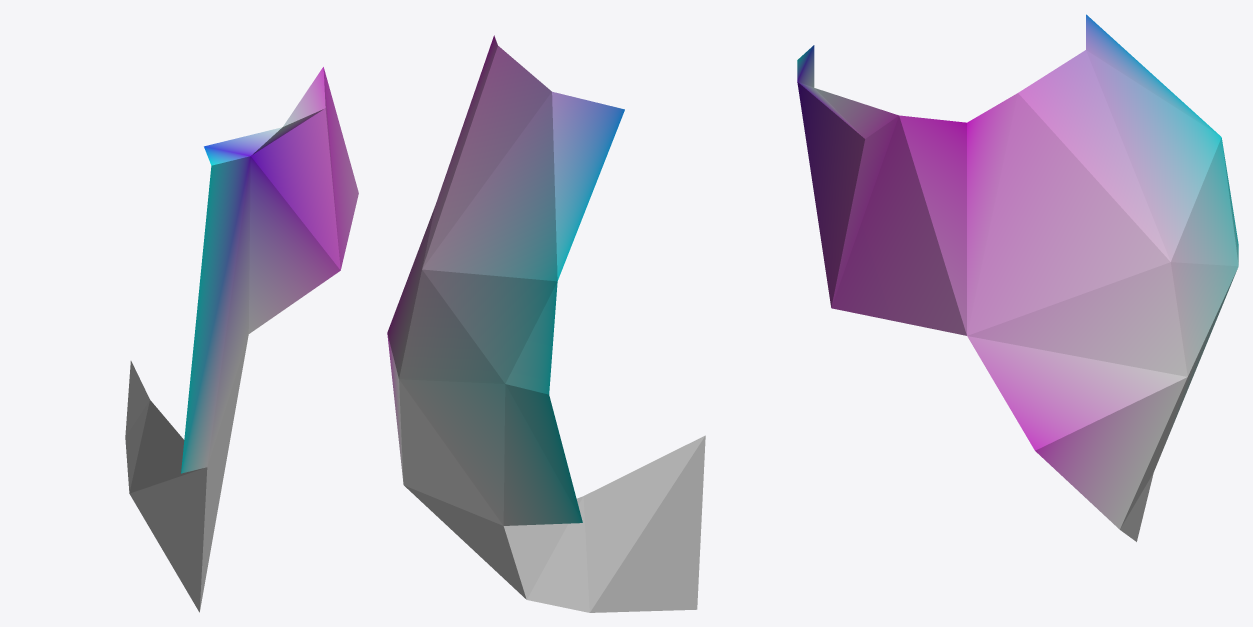
The picture shows the model from 3 angles, left to right: view 1: azimuth 30°, elevation 25°; view 2: azimuth 150°, elevation 25°; view 3: azimuth 270°, elevation 25°; orthographic projection. The views are drawn at different scales.
Parts seen in each view (by area): view 1: model_11AE; view 2: model_11AE; view 3: model_11AE.
Part boxes in pixels (box(x1,y1,x2,y2)): model_11AE: box(125, 67, 358, 612); model_11AE: box(387, 35, 705, 612); model_11AE: box(797, 14, 1238, 541).
Size of the model in its own units: 18 by 38 by 26.
